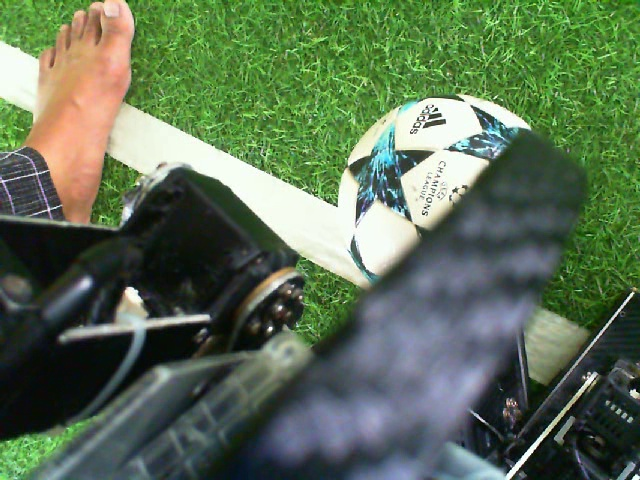ball: (336, 92, 535, 290)
